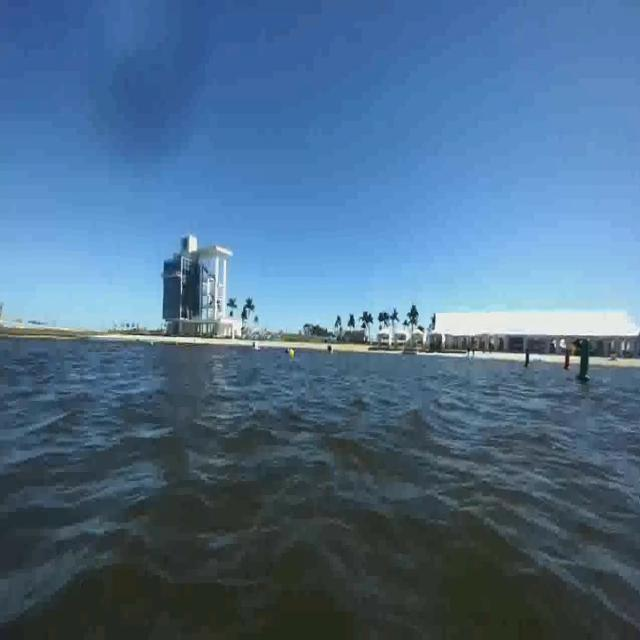green-column-buoy: (575, 337, 593, 382)
red-column-buoy: (564, 347, 572, 371)
yellow-buoy: (289, 348, 295, 360)
